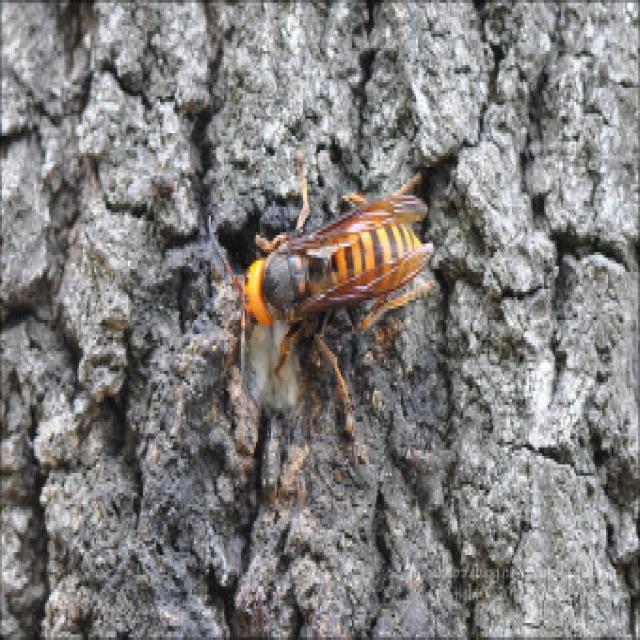Wasp: (222, 134, 432, 452)
